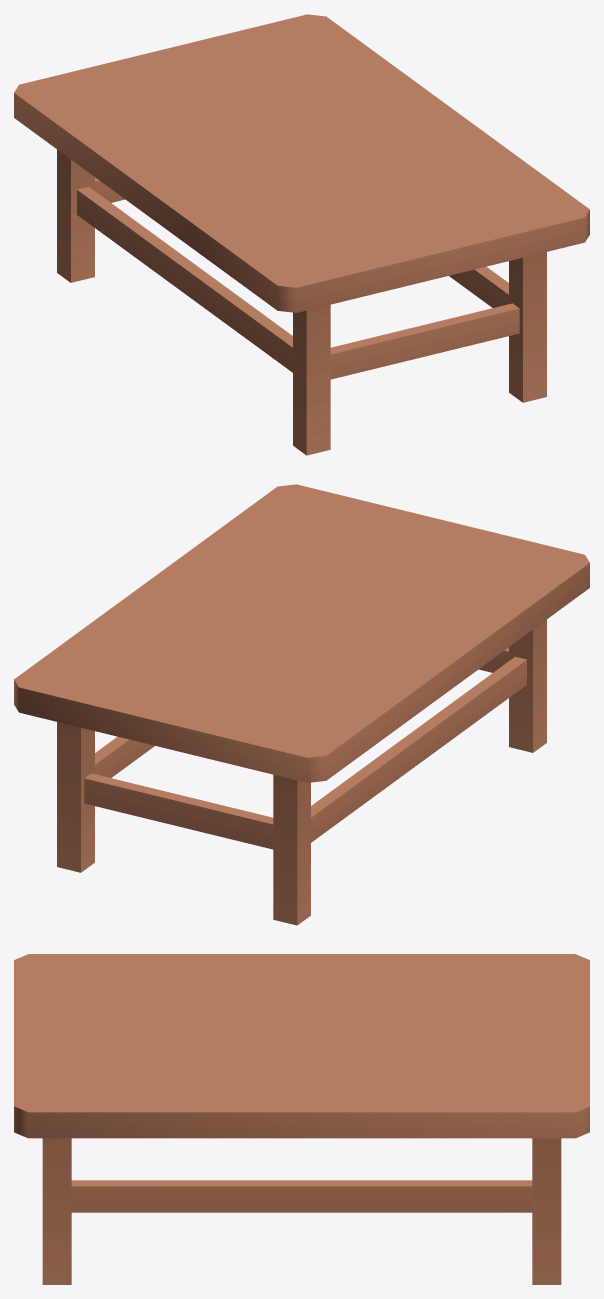
Rendered from stall.glb.
3 renders of one model, top to bottom at view 1: azimuth 30°, elevation 25°; view 2: azimuth 150°, elevation 25°; view 3: azimuth 270°, elevation 25°, orthographic. The views are drawn at different scales.
Parts seen in each view (by area): view 1: stall; view 2: stall; view 3: stall.
Boxes of the visible parts, x1=… form: stall: x1=14, y1=14, x2=589, y2=455; stall: x1=14, y1=484, x2=589, y2=925; stall: x1=14, y1=954, x2=589, y2=1284.
Bounding box in the file's own units: 0.65 × 0.3655 × 1.
Materials: 1 (1 with a texture image).
